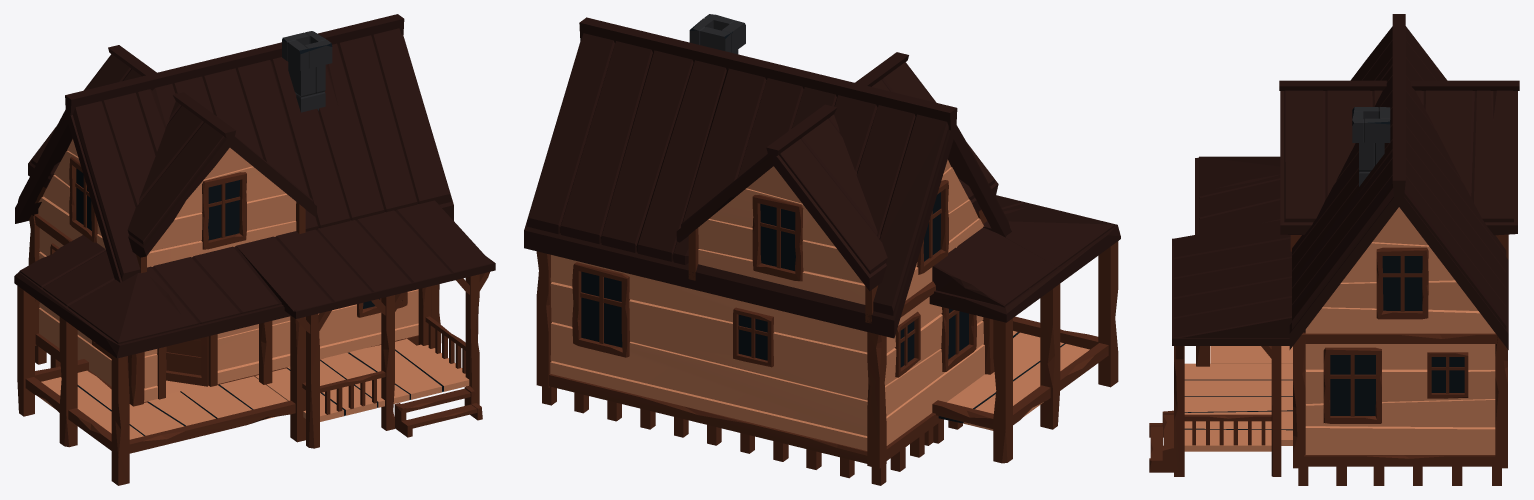
File: House_6.fbx
The picture shows the model from 3 angles, left to right: view 1: azimuth 30°, elevation 25°; view 2: azimuth 150°, elevation 25°; view 3: azimuth 270°, elevation 25°; orthographic projection. The views are drawn at different scales.
Parts seen in each view (by area): view 1: House_6; view 2: House_6; view 3: House_6.
Boxes of the visible parts, left/top/right/bottom form: House_6: left=14, top=14, right=495, bottom=485; House_6: left=524, top=14, right=1120, bottom=485; House_6: left=1149, top=14, right=1519, bottom=485.
Size of the model in its own units: 265 by 209 by 216.
